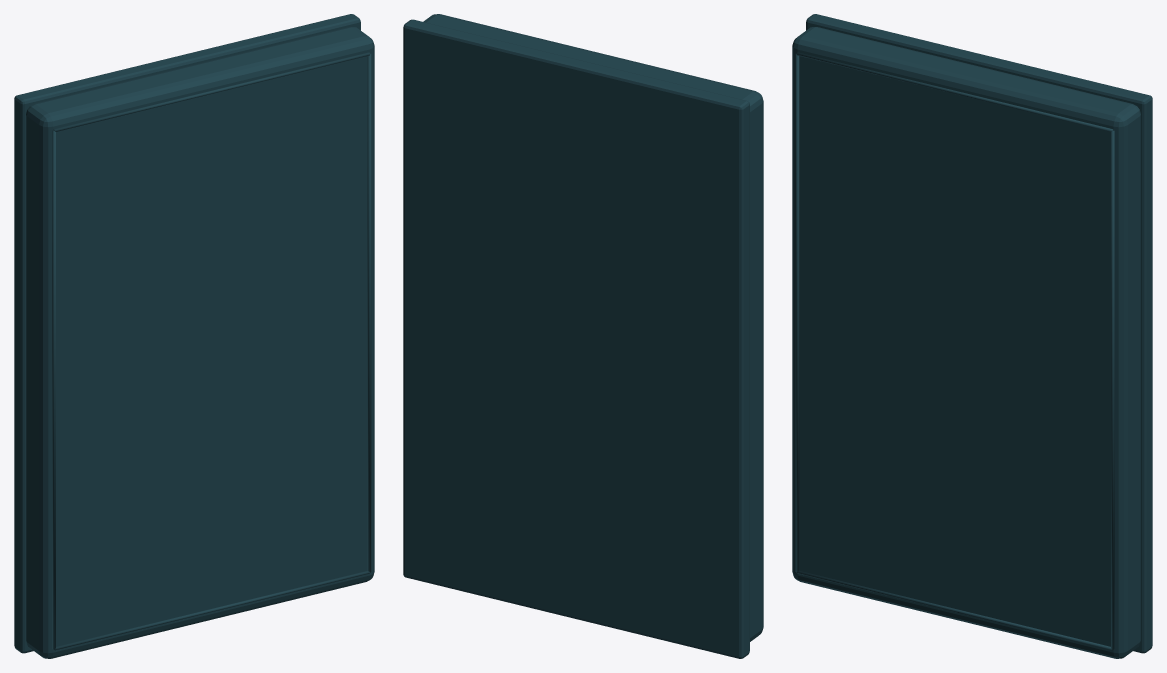
Rendered from courtiq-wall-pad.glb.
3 views of the same model, side by side, from view 1: azimuth 30°, elevation 25°; view 2: azimuth 150°, elevation 25°; view 3: azimuth 330°, elevation 25° (orthographic).
Visible parts, largest first — view 1: courtiq-wall-pad — Deep petrol upholstered padding; view 2: courtiq-wall-pad — Deep petrol upholstered padding; view 3: courtiq-wall-pad — Deep petrol upholstered padding.
Part boxes in pixels (left/top/right/bottom): courtiq-wall-pad — Deep petrol upholstered padding: left=14, top=14, right=374, bottom=658; courtiq-wall-pad — Deep petrol upholstered padding: left=403, top=14, right=763, bottom=658; courtiq-wall-pad — Deep petrol upholstered padding: left=792, top=14, right=1152, bottom=658.
Size of the model in its own units: 0.9 by 1.4 by 0.1362.
